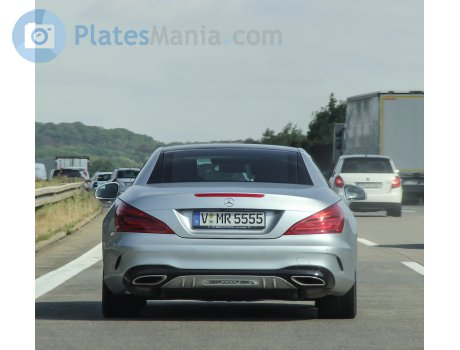License Plates: (202, 212, 261, 222)
